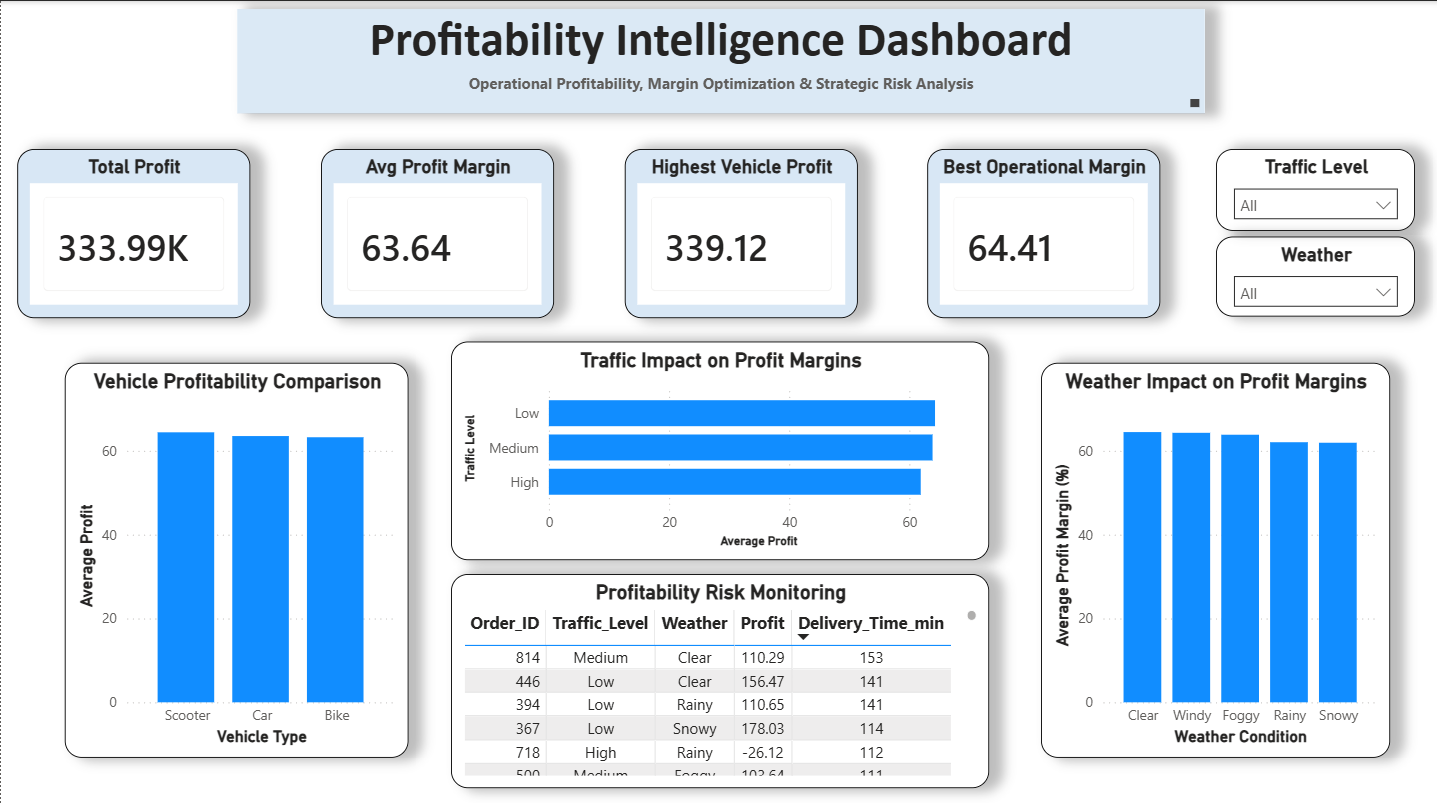

The dashboard page shown, as its layout file describes it:
{"tool":"powerbi","page":{"name":"Profitability Intelligence","canvas":[1280,720],"ordinal":2},"visuals":[{"type":"cardVisual","title":"Total Profit","fields":{"Data":["Sum(executive_summary.Total_Profit)"]},"box":[14.3,132.9,207.1,150],"z":0},{"type":"cardVisual","title":"Avg Profit Margin","fields":{"Data":["Sum(executive_summary.Average_Profit_Margin)"]},"box":[284.5,133,207.1,150],"z":1000},{"type":"cardVisual","title":"Highest Vehicle Profit","fields":{"Data":["Max(vehicle_analysis.Average_Profit)"]},"box":[554,133,207.1,150],"z":2000},{"type":"cardVisual","title":"Best Operational Margin","fields":{"Data":["Max(vehicle_analysis.Average_Profit_Margin)"]},"box":[823.4,133,207.1,150],"z":3000},{"type":"clusteredColumnChart","title":"Vehicle Profitability Comparison","fields":{"Category":["vehicle_analysis.Vehicle_Type"],"Y":["Avg(vehicle_analysis.Average_Profit_Margin)"]},"box":[57.1,322.9,305.7,351.4],"z":4000},{"type":"barChart","title":"Traffic Impact on Profit Margins","fields":{"Category":["traffic_analysis.Traffic_Level"],"Y":["Sum(traffic_analysis.Average_Profit_Margin)"]},"box":[400,304.3,478.6,194.3],"z":5000},{"type":"clusteredColumnChart","title":"Weather Impact on Profit Margins","fields":{"Category":["weather_analysis.Weather"],"Y":["Sum(weather_analysis.Average_Profit_Margin)"]},"box":[924.3,322.9,310,351.4],"z":6000},{"type":"tableEx","title":"Profitability Risk Monitoring","fields":{"Values":["high_risk_deliveries.Order_ID","high_risk_deliveries.Traffic_Level","high_risk_deliveries.Weather","high_risk_deliveries.Profit","high_risk_deliveries.Delivery_Time_min"]},"box":[400,511.4,478.6,190],"z":7000},{"type":"slicer","title":"Traffic Level","fields":{"Values":["high_risk_deliveries.Traffic_Level"]},"box":[1080,132.9,177.1,72.9],"z":8000},{"type":"slicer","title":"Weather","fields":{"Values":["high_risk_deliveries.Weather"]},"box":[1080,211.4,177.1,71.4],"z":9000},{"type":"textbox","title":"Profitability Intelligence Dashboard","box":[210,8.8,860,92.5],"z":10000}]}

Visuals, with their boxes in screenshot pixels (x1, y1, x2, y2), scaled from the page's 1280x720 canvas onto the 1437x803 screenshot:
"Total Profit" cardVisual: rect(16, 148, 249, 316)
"Avg Profit Margin" cardVisual: rect(319, 148, 552, 316)
"Highest Vehicle Profit" cardVisual: rect(622, 148, 854, 316)
"Best Operational Margin" cardVisual: rect(924, 148, 1157, 316)
"Vehicle Profitability Comparison" clusteredColumnChart: rect(64, 360, 407, 752)
"Traffic Impact on Profit Margins" barChart: rect(449, 339, 986, 556)
"Weather Impact on Profit Margins" clusteredColumnChart: rect(1038, 360, 1386, 752)
"Profitability Risk Monitoring" tableEx: rect(449, 570, 986, 782)
"Traffic Level" slicer: rect(1212, 148, 1411, 230)
"Weather" slicer: rect(1212, 236, 1411, 315)
"Profitability Intelligence Dashboard" textbox: rect(236, 10, 1201, 113)
